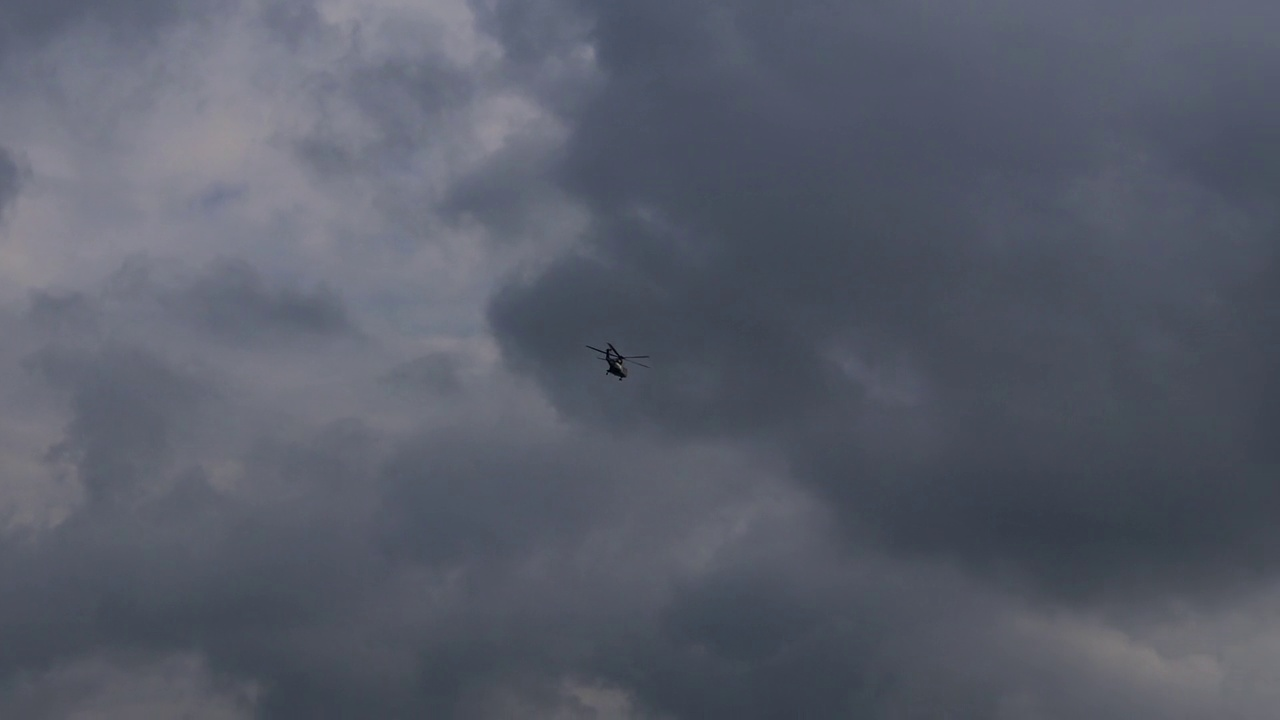heli: (585, 339, 649, 382)
